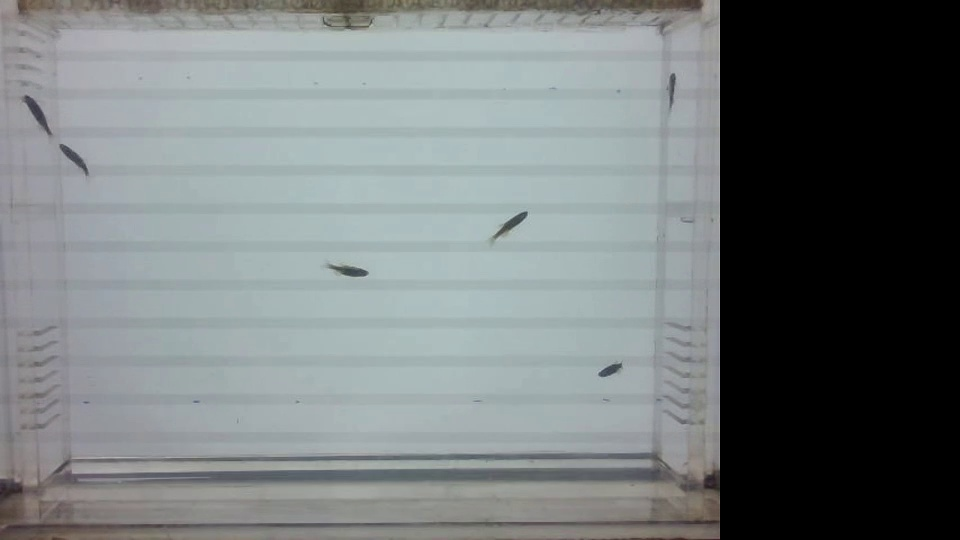fish: (16, 93, 58, 142), (649, 66, 686, 114), (316, 254, 384, 280), (480, 209, 528, 244), (589, 352, 632, 388), (52, 144, 88, 185)
